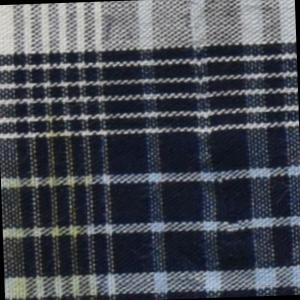Stain: (1, 107, 93, 300)
